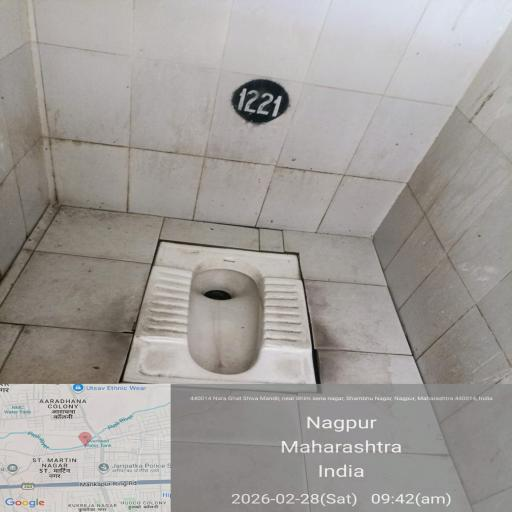partial_dirty_floor: (11, 182, 475, 512), (60, 37, 425, 175)
partial_dirty_indian: (114, 234, 338, 409)
